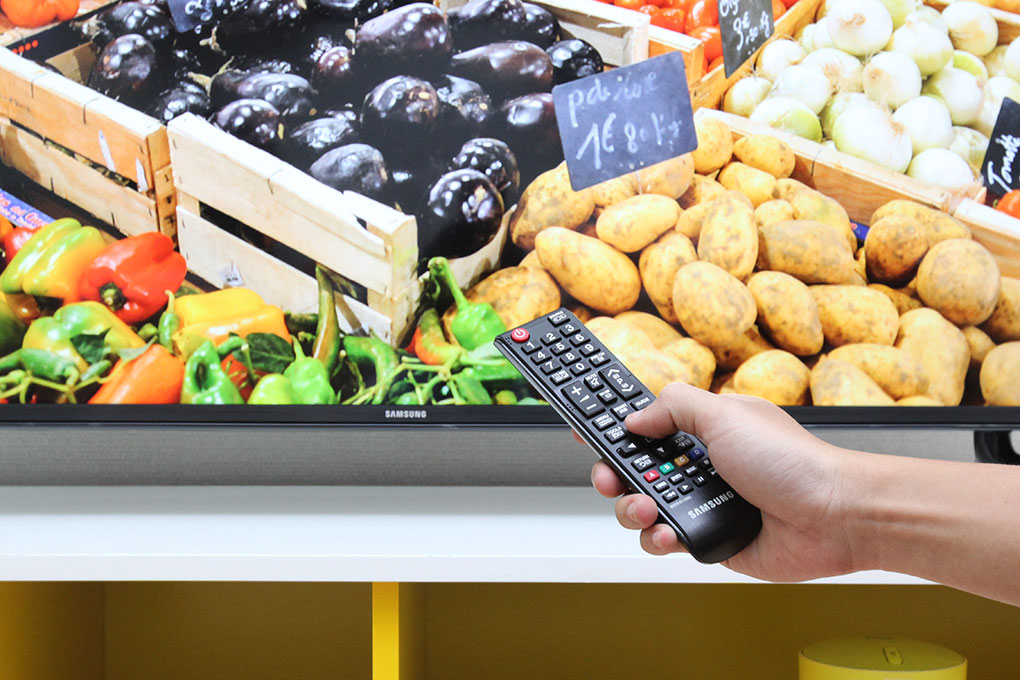SAMSUNG: (636, 441, 800, 580), (337, 369, 471, 496)
